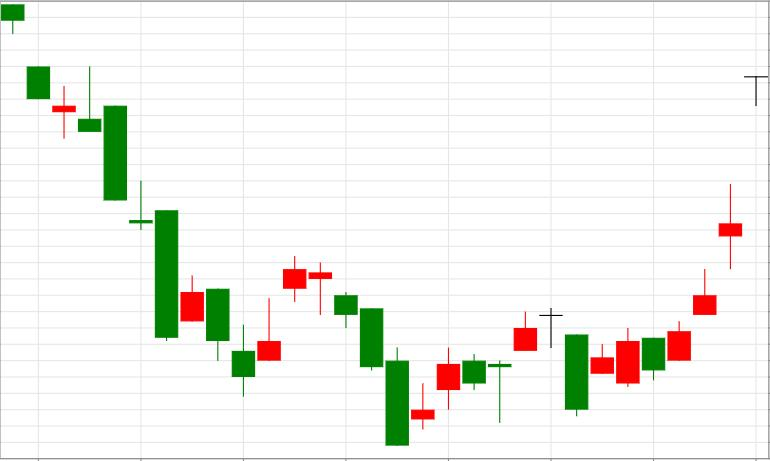evening_star_fall: (412, 307, 588, 429)
